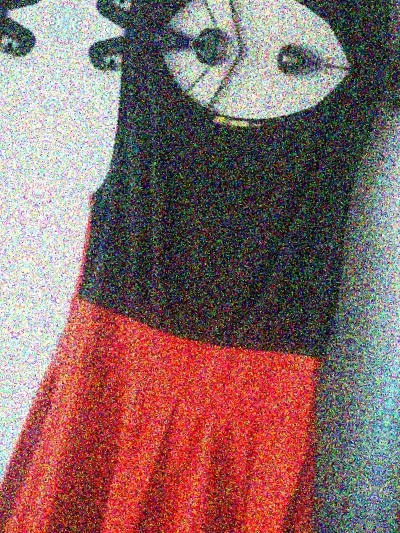Dress: (0, 30, 400, 533), (0, 0, 64, 525), (67, 0, 400, 70), (0, 525, 322, 533), (0, 0, 148, 15), (399, 98, 400, 533)
